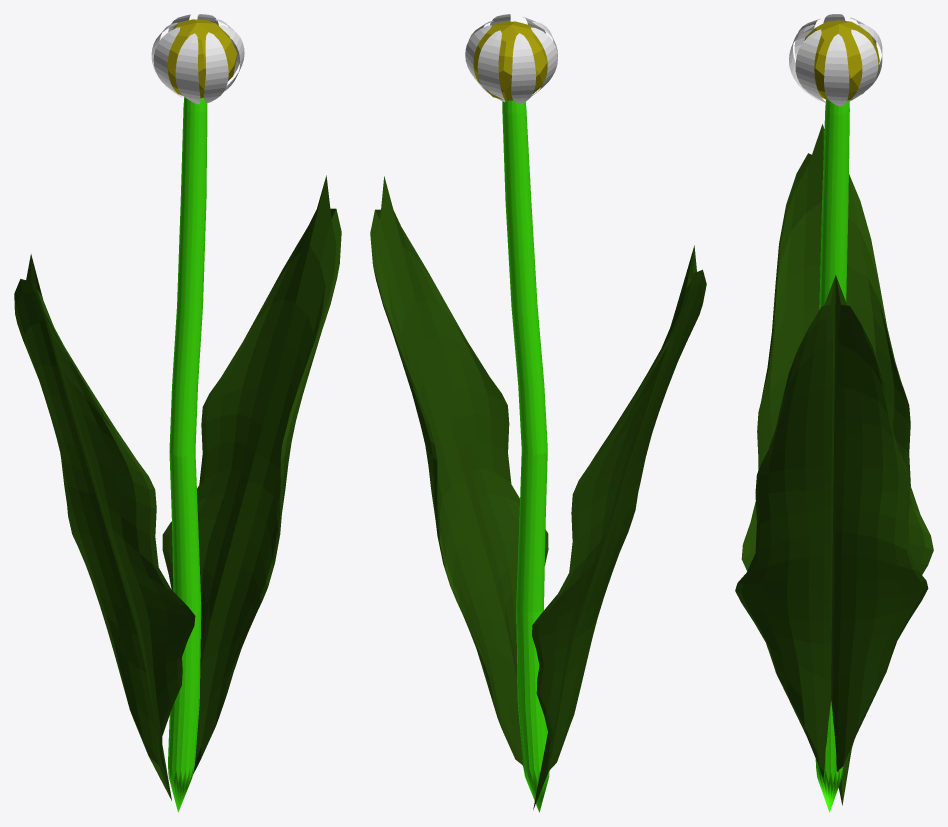
Rendered from daisy Veg SMD 1.fbx.
The picture shows the model from 3 angles, left to right: view 1: azimuth 30°, elevation 25°; view 2: azimuth 150°, elevation 25°; view 3: azimuth 270°, elevation 25°; orthographic projection. The views are drawn at different scales.
Visible parts, largest first — view 1: Plane.001, Plane.013, Cylinder.002, Icosphere, Cylinder.006, Cylinder.004, Cylinder.007; view 2: Plane.001, Plane.013, Cylinder.002, Icosphere, Cylinder.009, Cylinder.003, Cylinder.007; view 3: Plane.001, Plane.013, Cylinder.002, Icosphere, Cylinder.001, Cylinder.008, Cylinder.005.
Boxes of the visible parts, x1=… form: Plane.001: x1=162, y1=175, x2=341, y2=774; Plane.013: x1=14, y1=254, x2=195, y2=800; Cylinder.002: x1=168, y1=97, x2=207, y2=812; Icosphere: x1=167, y1=19, x2=237, y2=98; Cylinder.006: x1=175, y1=33, x2=200, y2=104; Cylinder.004: x1=203, y1=32, x2=228, y2=102; Cylinder.007: x1=153, y1=27, x2=180, y2=96; Plane.001: x1=370, y1=176, x2=548, y2=766; Plane.013: x1=532, y1=245, x2=706, y2=810; Cylinder.002: x1=502, y1=100, x2=549, y2=812; Icosphere: x1=473, y1=21, x2=547, y2=100; Cylinder.009: x1=511, y1=33, x2=535, y2=104; Cylinder.003: x1=477, y1=30, x2=505, y2=102; Cylinder.007: x1=531, y1=27, x2=557, y2=96; Plane.001: x1=735, y1=275, x2=928, y2=782; Plane.013: x1=741, y1=124, x2=933, y2=805; Cylinder.002: x1=815, y1=100, x2=849, y2=812; Icosphere: x1=804, y1=20, x2=879, y2=100; Cylinder.001: x1=824, y1=34, x2=849, y2=106; Cylinder.008: x1=795, y1=29, x2=825, y2=102; Cylinder.005: x1=848, y1=29, x2=878, y2=102.
Bounding box in the file's own units: 116 × 281 × 63.05.
